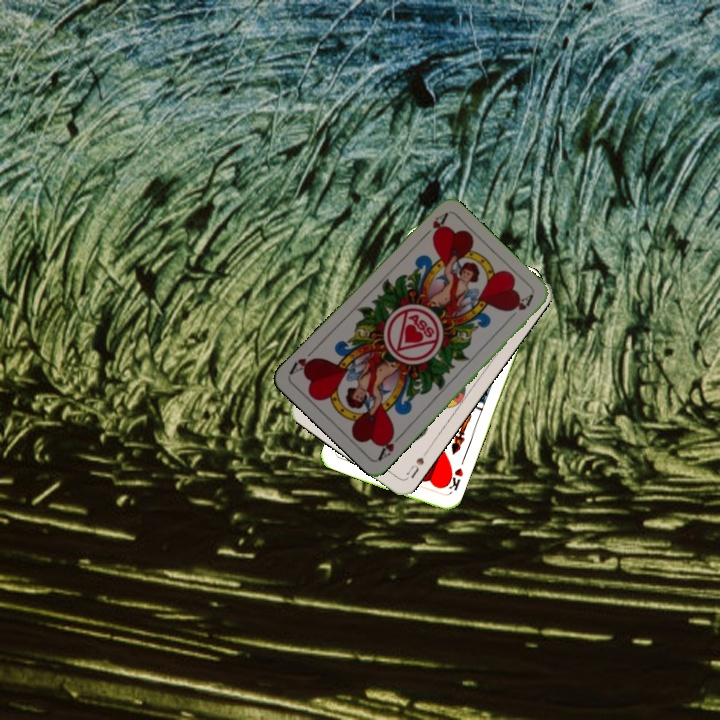HA: (374, 428, 406, 463), (417, 209, 450, 242)
HK: (440, 464, 466, 497)
SU: (402, 446, 431, 481)
